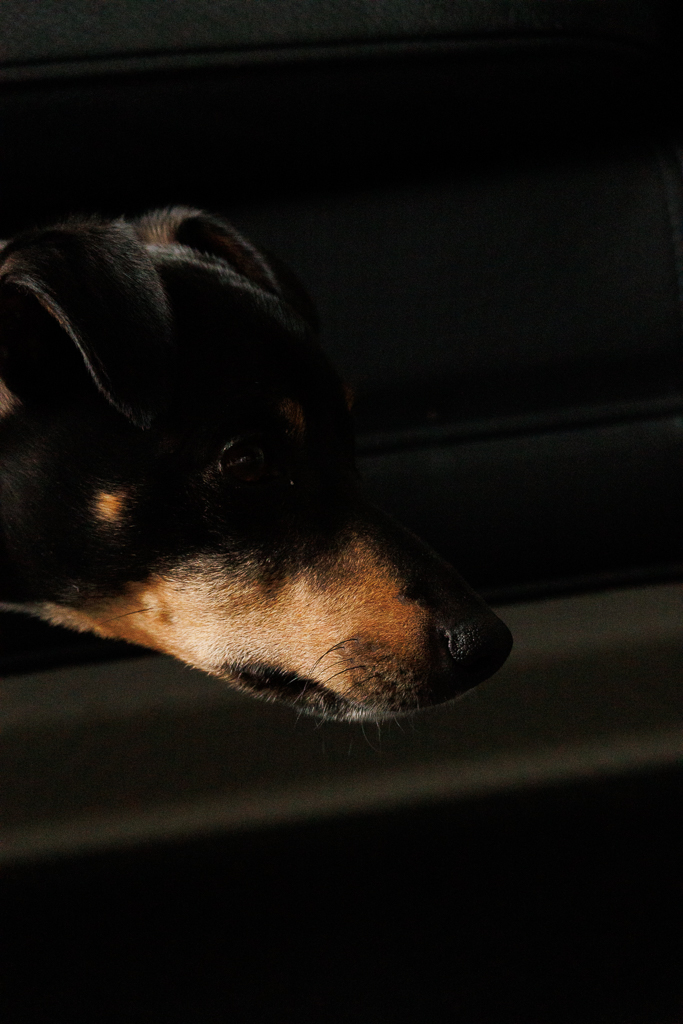Dog: (0, 179, 541, 756)
